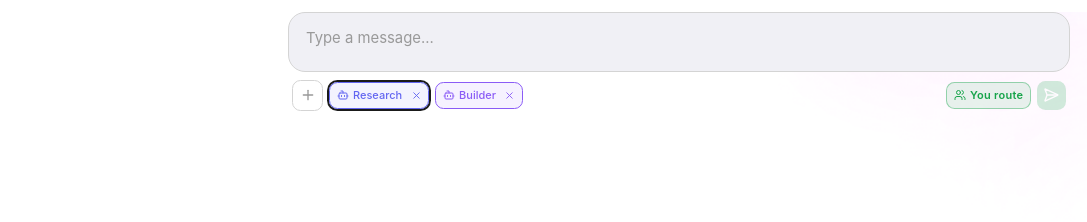
Test: addressing a human chat › offers no Address Next Message on the agent already addressed
This screenshot has width=1087, height=222.
Click the button "Research" at [370, 95], box [337,87,402,104]
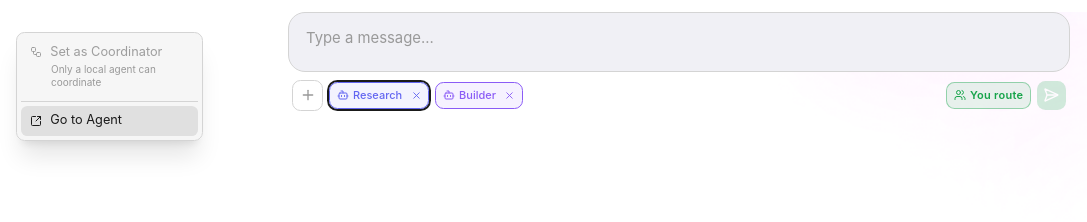
Check: the menu item "Address Next Message" is not shown
Press Escape
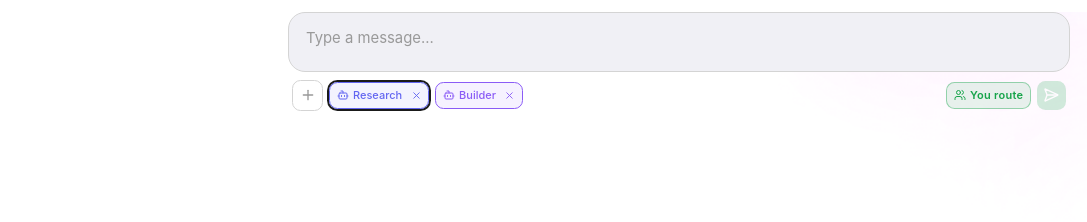
Click the button "Builder" at [469, 95], box [443,87,496,104]
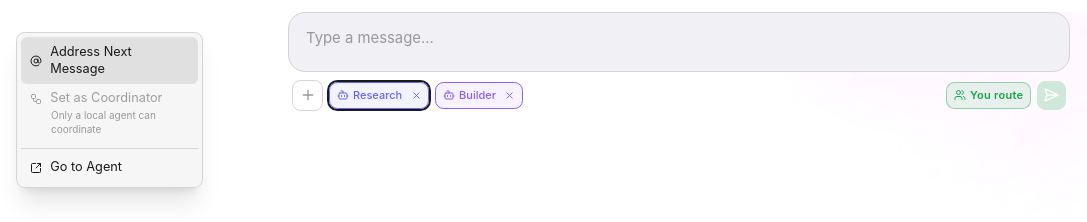
Check: the menu item "Address Next Message" is shown, box [21,37,198,84]
